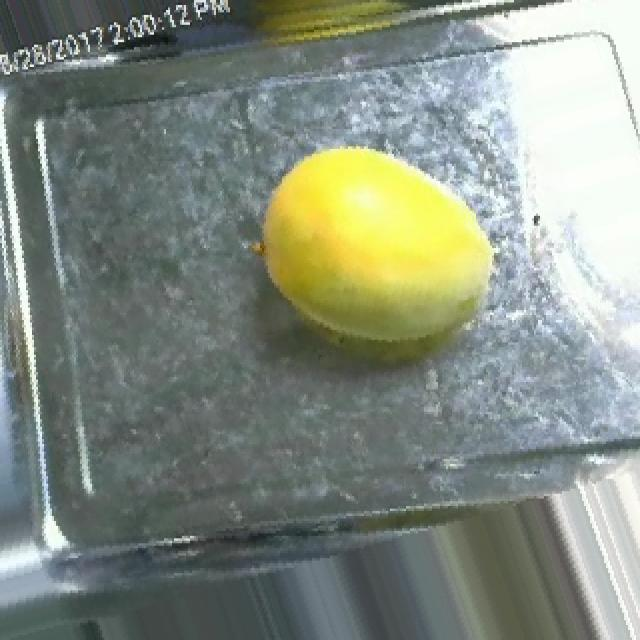fruit: (228, 107, 526, 387), (204, 0, 448, 82)
